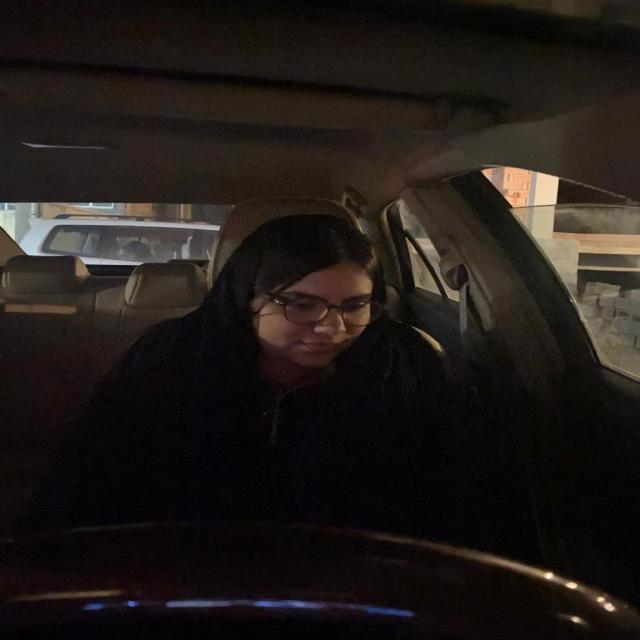person: (228, 207, 398, 370)
